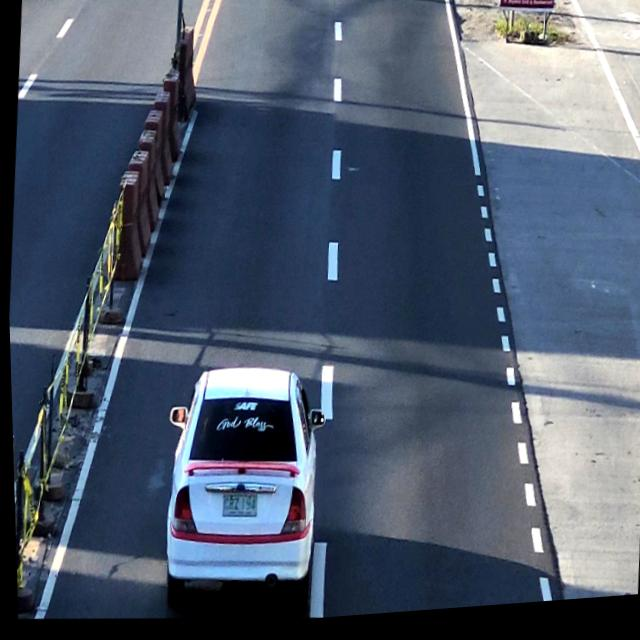Car: (154, 359, 326, 605)
License-Plate: (215, 493, 260, 529)
